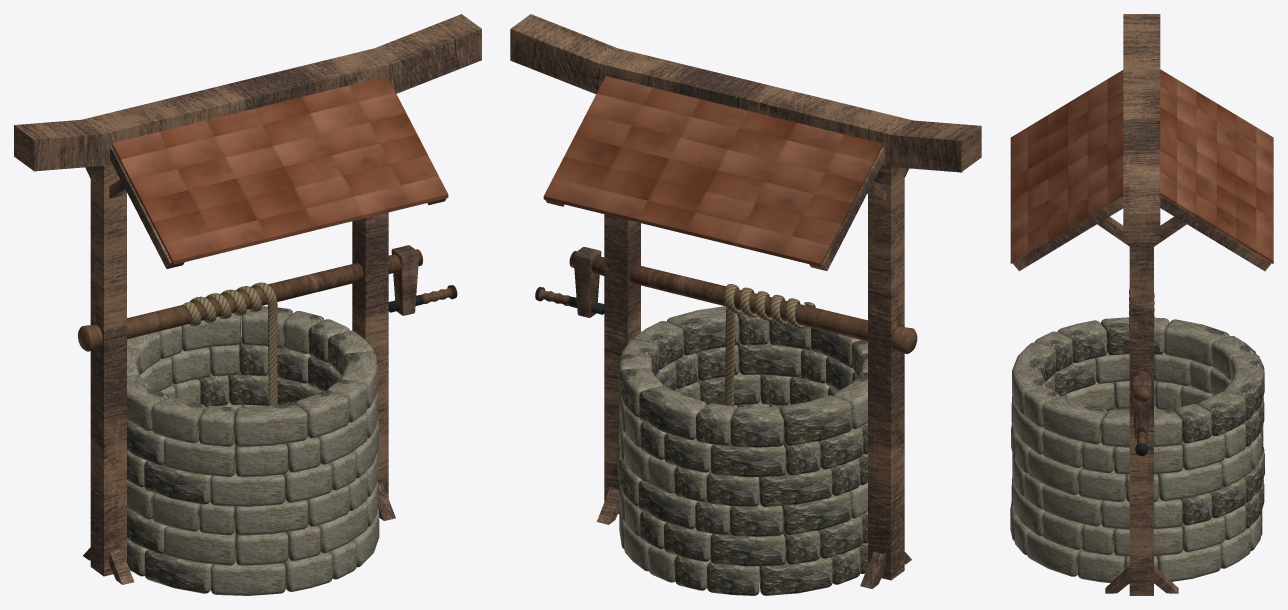
Rendered from medieval_wooden_well.glb.
The picture shows the model from 3 angles, left to right: view 1: azimuth 30°, elevation 25°; view 2: azimuth 150°, elevation 25°; view 3: azimuth 270°, elevation 25°; orthographic projection. The views are drawn at different scales.
Parts seen in each view (by area): view 1: Well; view 2: Well; view 3: Well.
Boxes of the visible parts, x1=… form: Well: x1=14, y1=14, x2=481, y2=595; Well: x1=510, y1=14, x2=981, y2=595; Well: x1=1010, y1=14, x2=1273, y2=595.
Bounding box in the file's own units: 2.25 × 2.2 × 1.24.
Materials: 1 (1 with a texture image).
